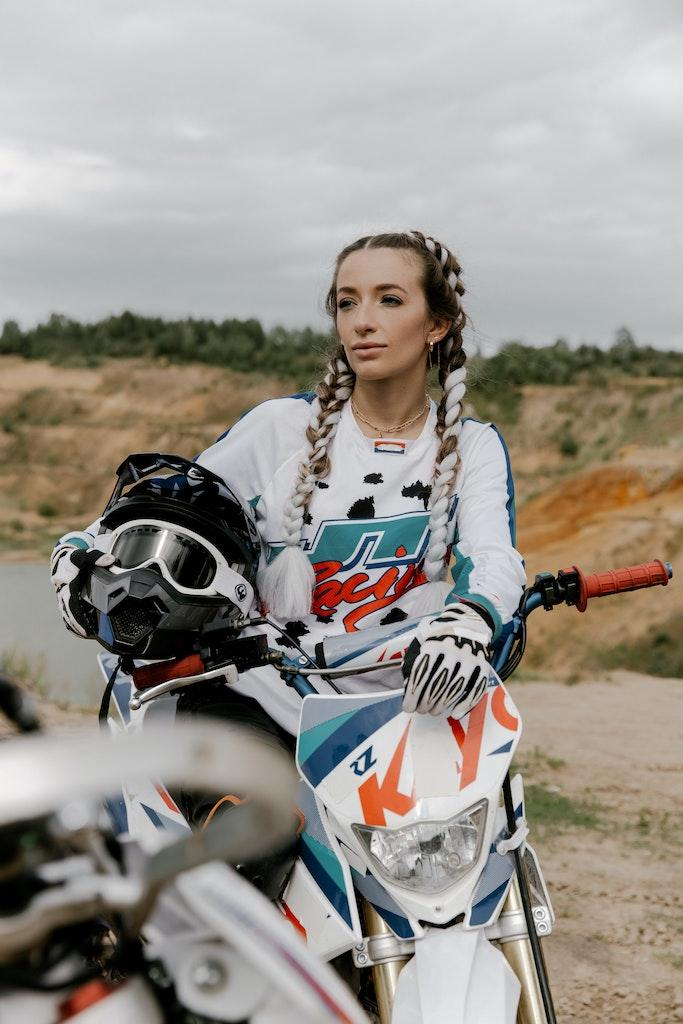helmet: (72, 451, 263, 662)
nohelmet: (325, 228, 469, 409)
